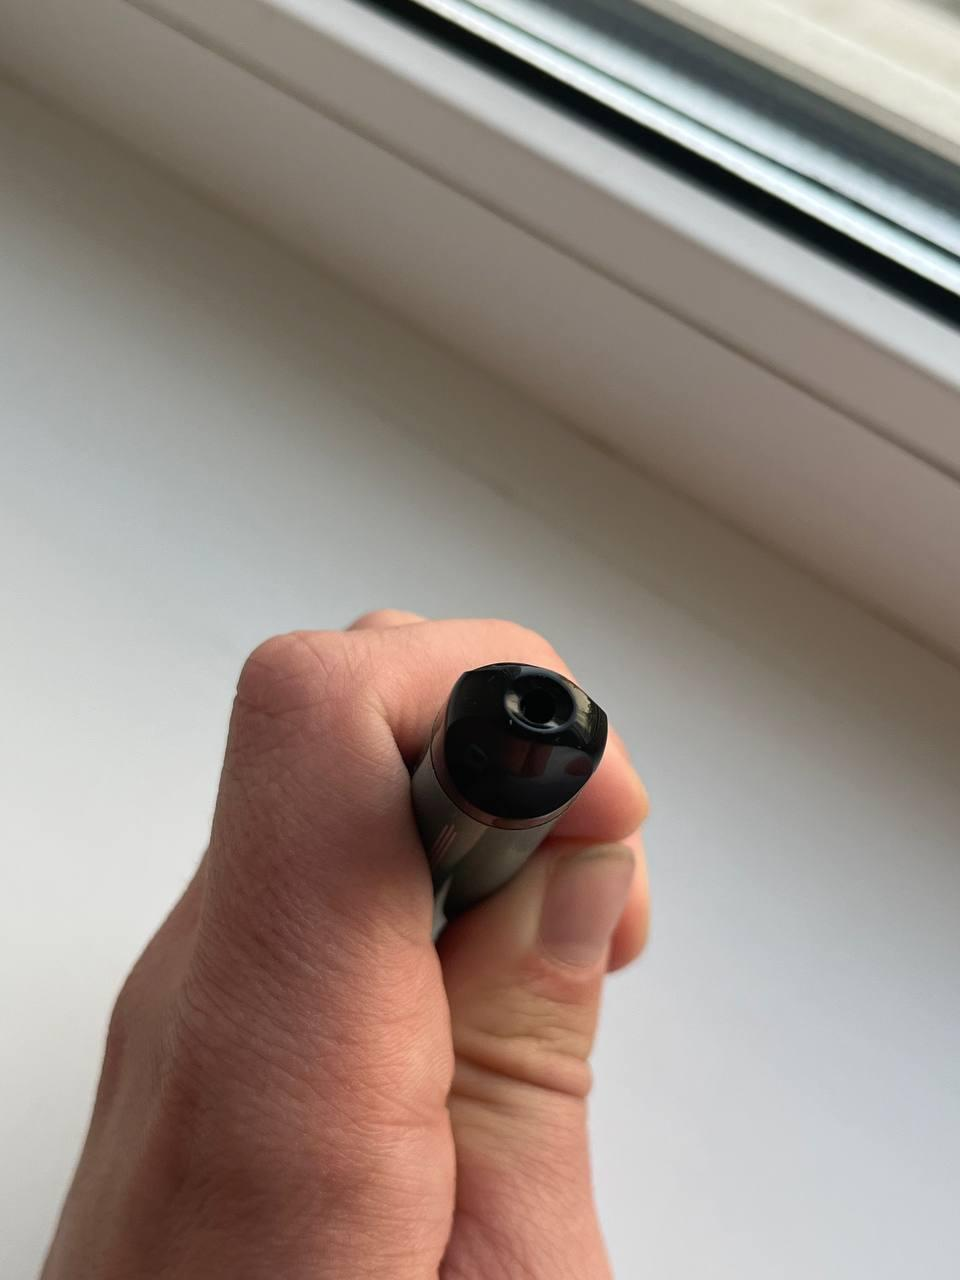Vape: (410, 662, 607, 923)
